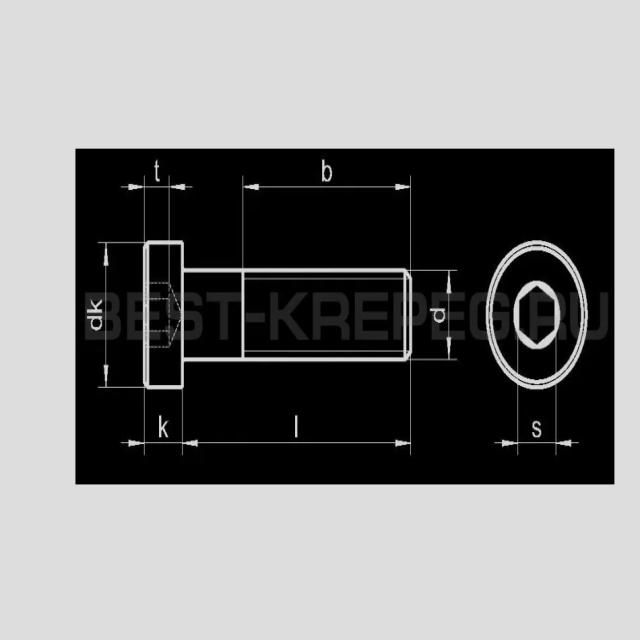marking_line: (238, 172, 413, 268), (179, 390, 414, 455), (97, 240, 142, 391), (495, 390, 579, 458), (413, 265, 460, 362), (122, 181, 195, 240), (118, 391, 159, 459), (121, 182, 160, 239), (162, 181, 194, 240), (158, 391, 186, 457)
